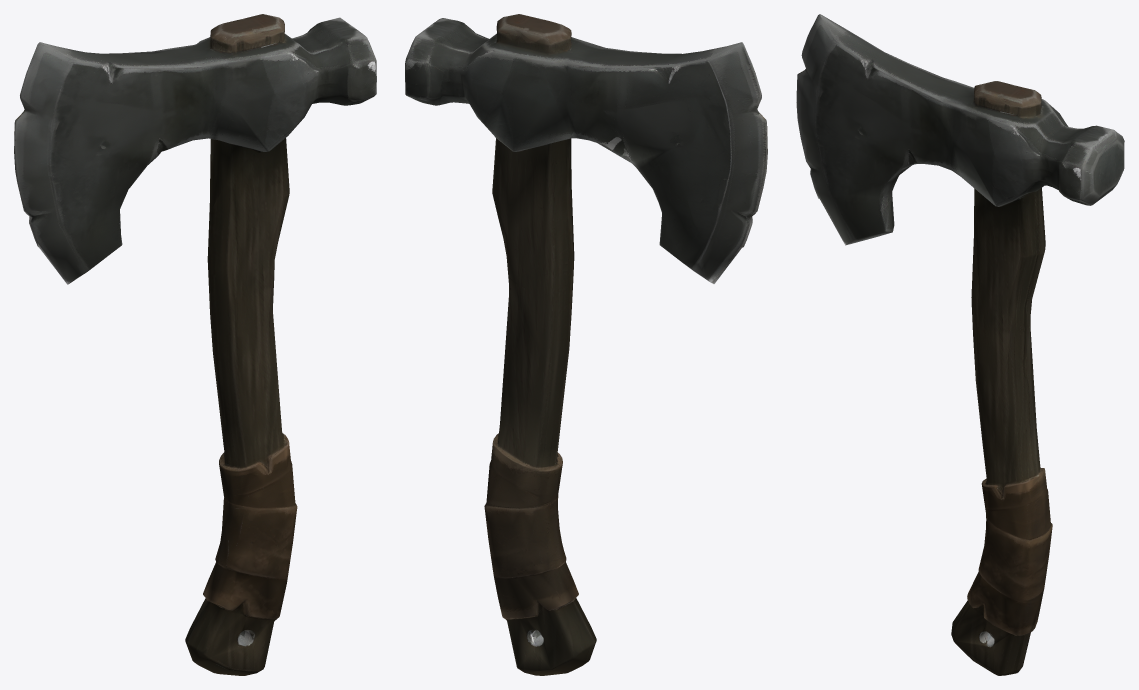
Rendered from mesh_hand_axe_a.glb.
3 views of the same model, side by side, from view 1: azimuth 30°, elevation 25°; view 2: azimuth 150°, elevation 25°; view 3: azimuth 330°, elevation 25° (orthographic). The views are drawn at different scales.
Parts seen in each view (by area): view 1: mesh_hand_axe_a__Mesh_0; view 2: mesh_hand_axe_a__Mesh_0; view 3: mesh_hand_axe_a__Mesh_0.
Part boxes in pixels (x1=…): mesh_hand_axe_a__Mesh_0: x1=14, y1=14, x2=376, y2=675; mesh_hand_axe_a__Mesh_0: x1=405, y1=14, x2=767, y2=675; mesh_hand_axe_a__Mesh_0: x1=796, y1=14, x2=1124, y2=675.
Bounding box in the file's own units: 1.59 × 3 × 0.382.
1 material, 1 textured.
